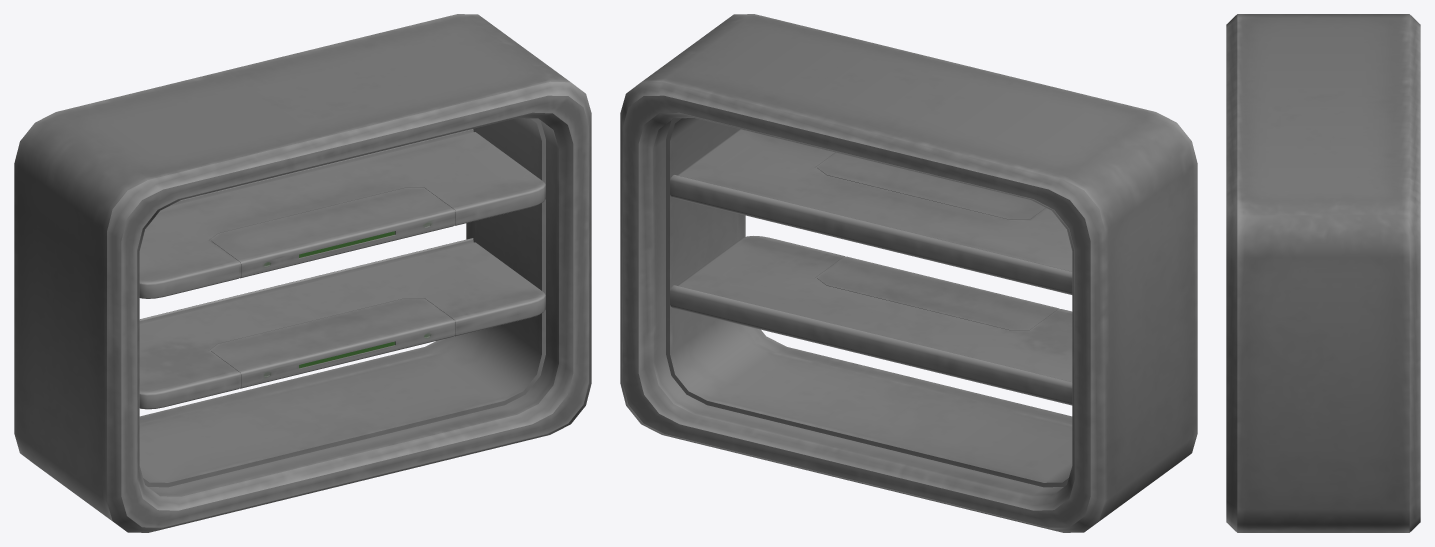
The model's file is Shelf.fbx.
The picture shows the model from 3 angles, left to right: view 1: azimuth 30°, elevation 25°; view 2: azimuth 150°, elevation 25°; view 3: azimuth 270°, elevation 25°; orthographic projection. The views are drawn at different scales.
Parts seen in each view (by area): view 1: Shelf; view 2: Shelf; view 3: Shelf.
Boxes of the visible parts, x1=… form: Shelf: x1=14, y1=14, x2=591, y2=532; Shelf: x1=620, y1=14, x2=1197, y2=532; Shelf: x1=1226, y1=14, x2=1420, y2=532.
Size of the model in its own units: 148 by 103 by 55.18.
